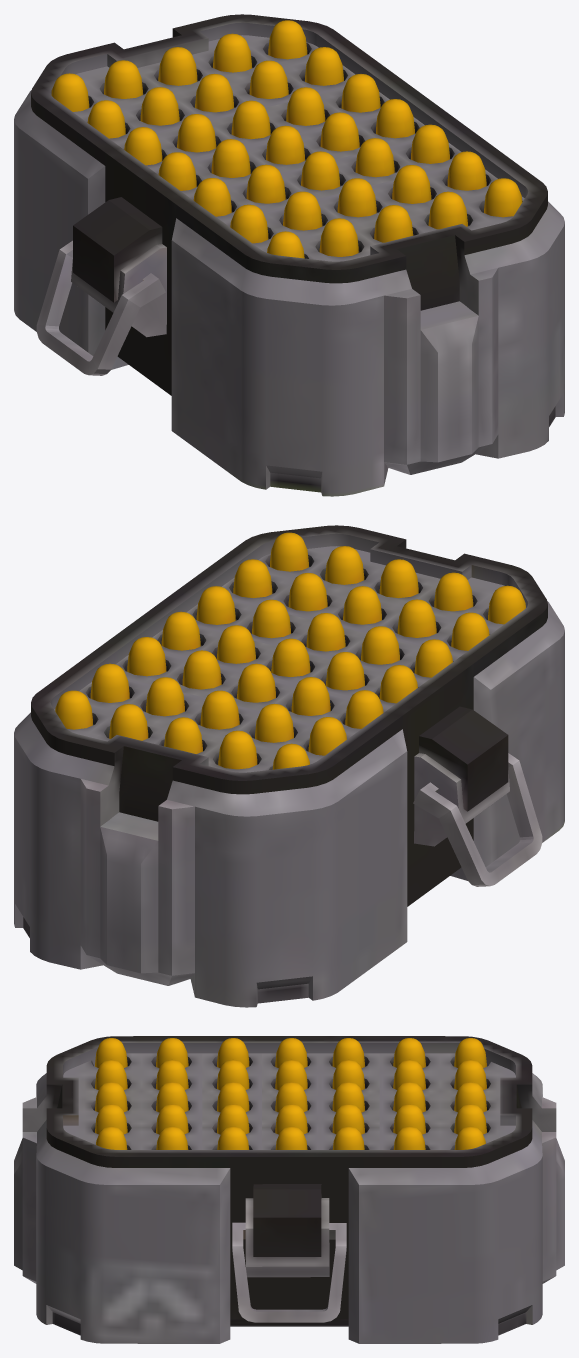
File: Ammo.glb
3 views of the same model, one above another, from view 1: azimuth 30°, elevation 25°; view 2: azimuth 150°, elevation 25°; view 3: azimuth 270°, elevation 25° (orthographic). The views are drawn at different scales.
Visible parts, largest first — view 1: Prop_Ammo; view 2: Prop_Ammo; view 3: Prop_Ammo.
Boxes of the visible parts, x1,y1,x2,y2 form: Prop_Ammo: [14, 14, 564, 496]; Prop_Ammo: [14, 525, 564, 1007]; Prop_Ammo: [14, 1036, 564, 1343].
Bounding box in the file's own units: 0.5707 × 0.2819 × 0.7229.
1 material, 1 textured.
